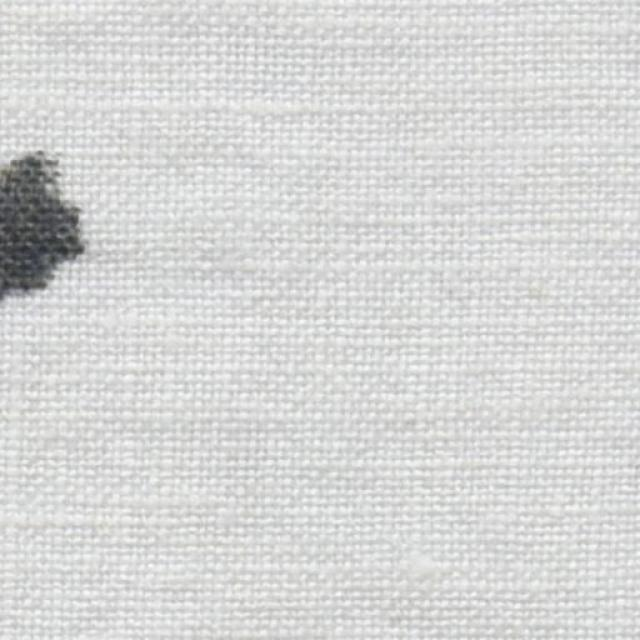Stain: (0, 151, 84, 297)
